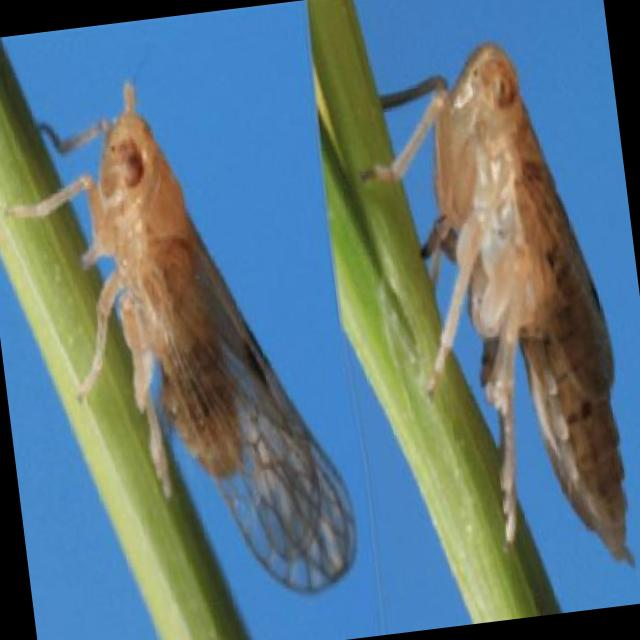brown-planthopper: (82, 84, 358, 597), (404, 21, 640, 581)
